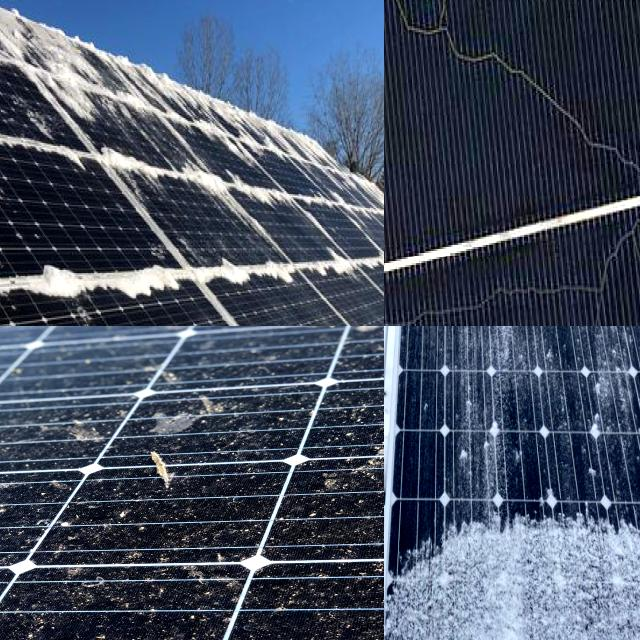bird: (111, 386, 249, 491), (129, 326, 244, 351), (0, 622, 76, 640)
panel: (480, 471, 608, 640), (458, 326, 531, 572), (565, 326, 640, 503), (0, 251, 199, 315), (385, 523, 479, 640), (97, 148, 266, 206), (98, 76, 234, 144), (279, 155, 384, 230), (0, 7, 89, 91), (204, 235, 324, 294), (0, 103, 86, 184), (384, 506, 434, 640), (244, 98, 346, 163), (384, 502, 430, 640), (0, 163, 43, 309), (384, 326, 407, 541), (384, 519, 404, 640), (334, 240, 384, 280), (44, 127, 87, 173), (0, 0, 33, 40)
shadow: (384, 0, 640, 195), (384, 281, 605, 326), (600, 194, 640, 280), (384, 0, 429, 70), (384, 0, 430, 57), (562, 0, 640, 24)
